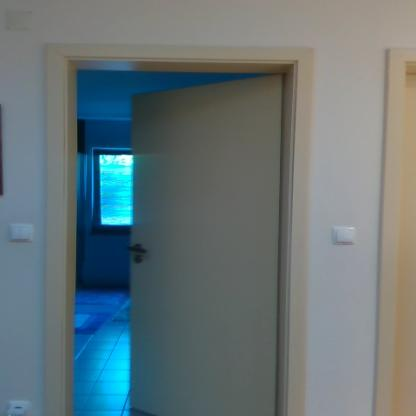semi: (47, 30, 318, 416)
